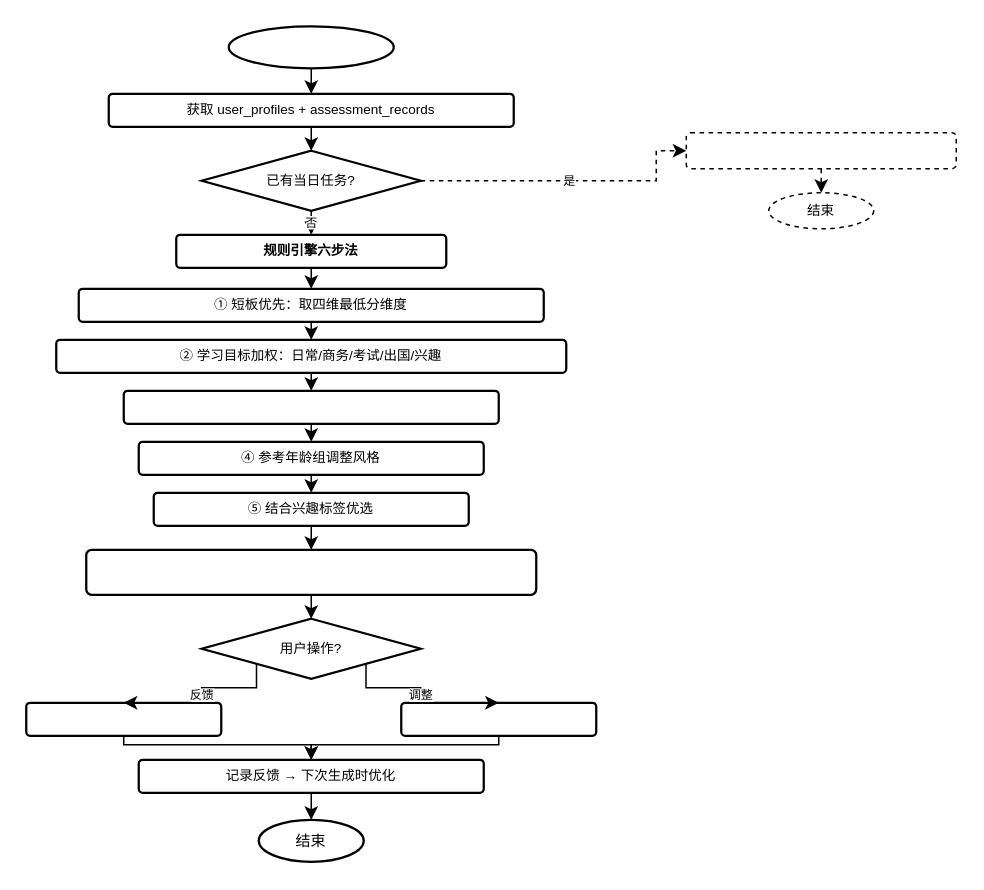
Image size: 984x890. Some labels were removed from this diagram. Here are the shapes that lost their labels. From the top down, the centre of each, then its label:
At point (310, 46): "用户登录 / 请求生成".
At point (820, 150): "直接返回「今日任务已生成」".
At point (310, 406): "③ 匹配 CEFR 等级难度".
At point (310, 571): "⑥ 输出 3 个任务写入 daily_tasks 跟读练习 + 情景对话 + 听力训练".
At point (123, 718): "跳过 / 换一个".
At point (498, 718): "调整难度 ±1".
